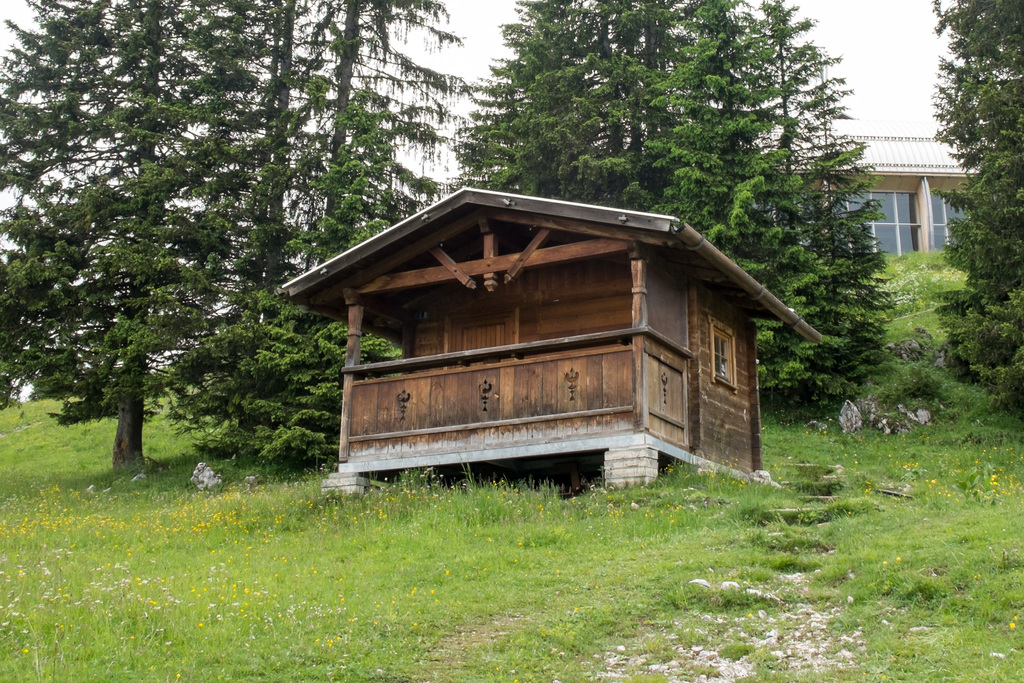Tree: (0, 0, 1024, 469)
